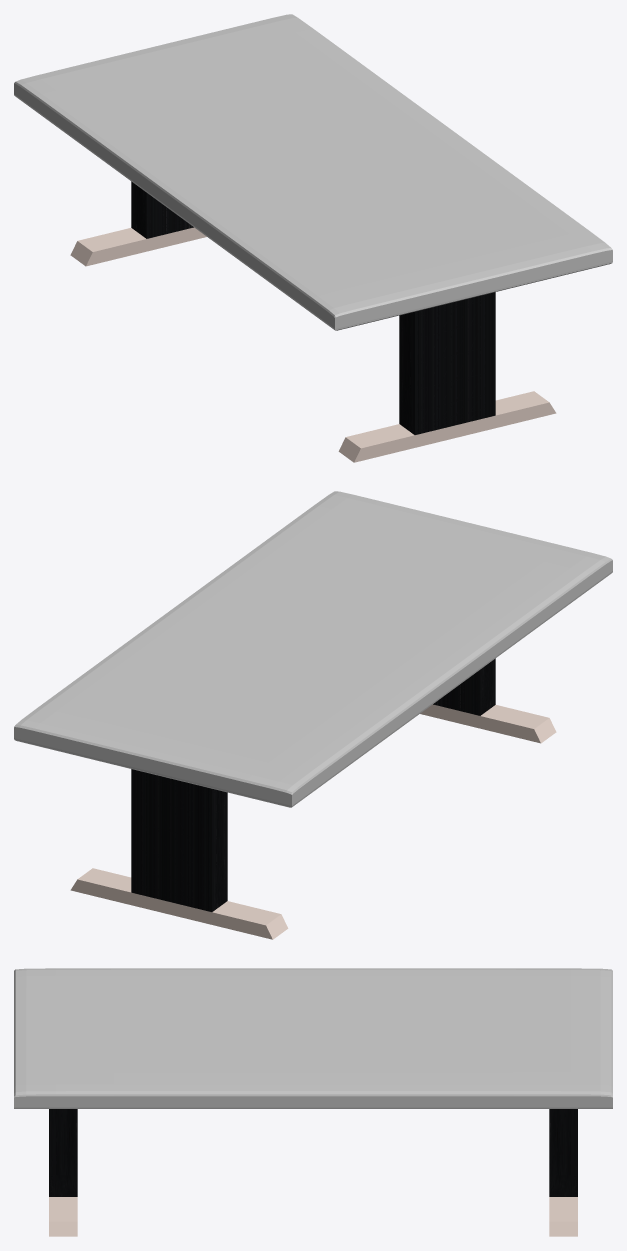
Rendered from BüroTisch.fbx.
The picture shows the model from 3 angles, top to bottom: view 1: azimuth 30°, elevation 25°; view 2: azimuth 150°, elevation 25°; view 3: azimuth 270°, elevation 25°; orthographic projection. The views are drawn at different scales.
Parts seen in each view (by area): view 1: Tisch; view 2: Tisch; view 3: Tisch.
Part boxes in pixels (x1=…): Tisch: x1=14, y1=14, x2=612, y2=462; Tisch: x1=14, y1=491, x2=612, y2=939; Tisch: x1=14, y1=968, x2=612, y2=1236.
Bounding box in the file's own units: 160 × 94.55 × 320.
